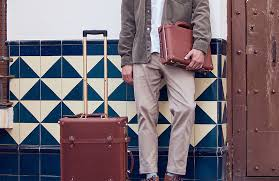suitcase: (56, 30, 131, 181)
